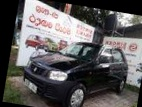car: (16, 29, 134, 107)
